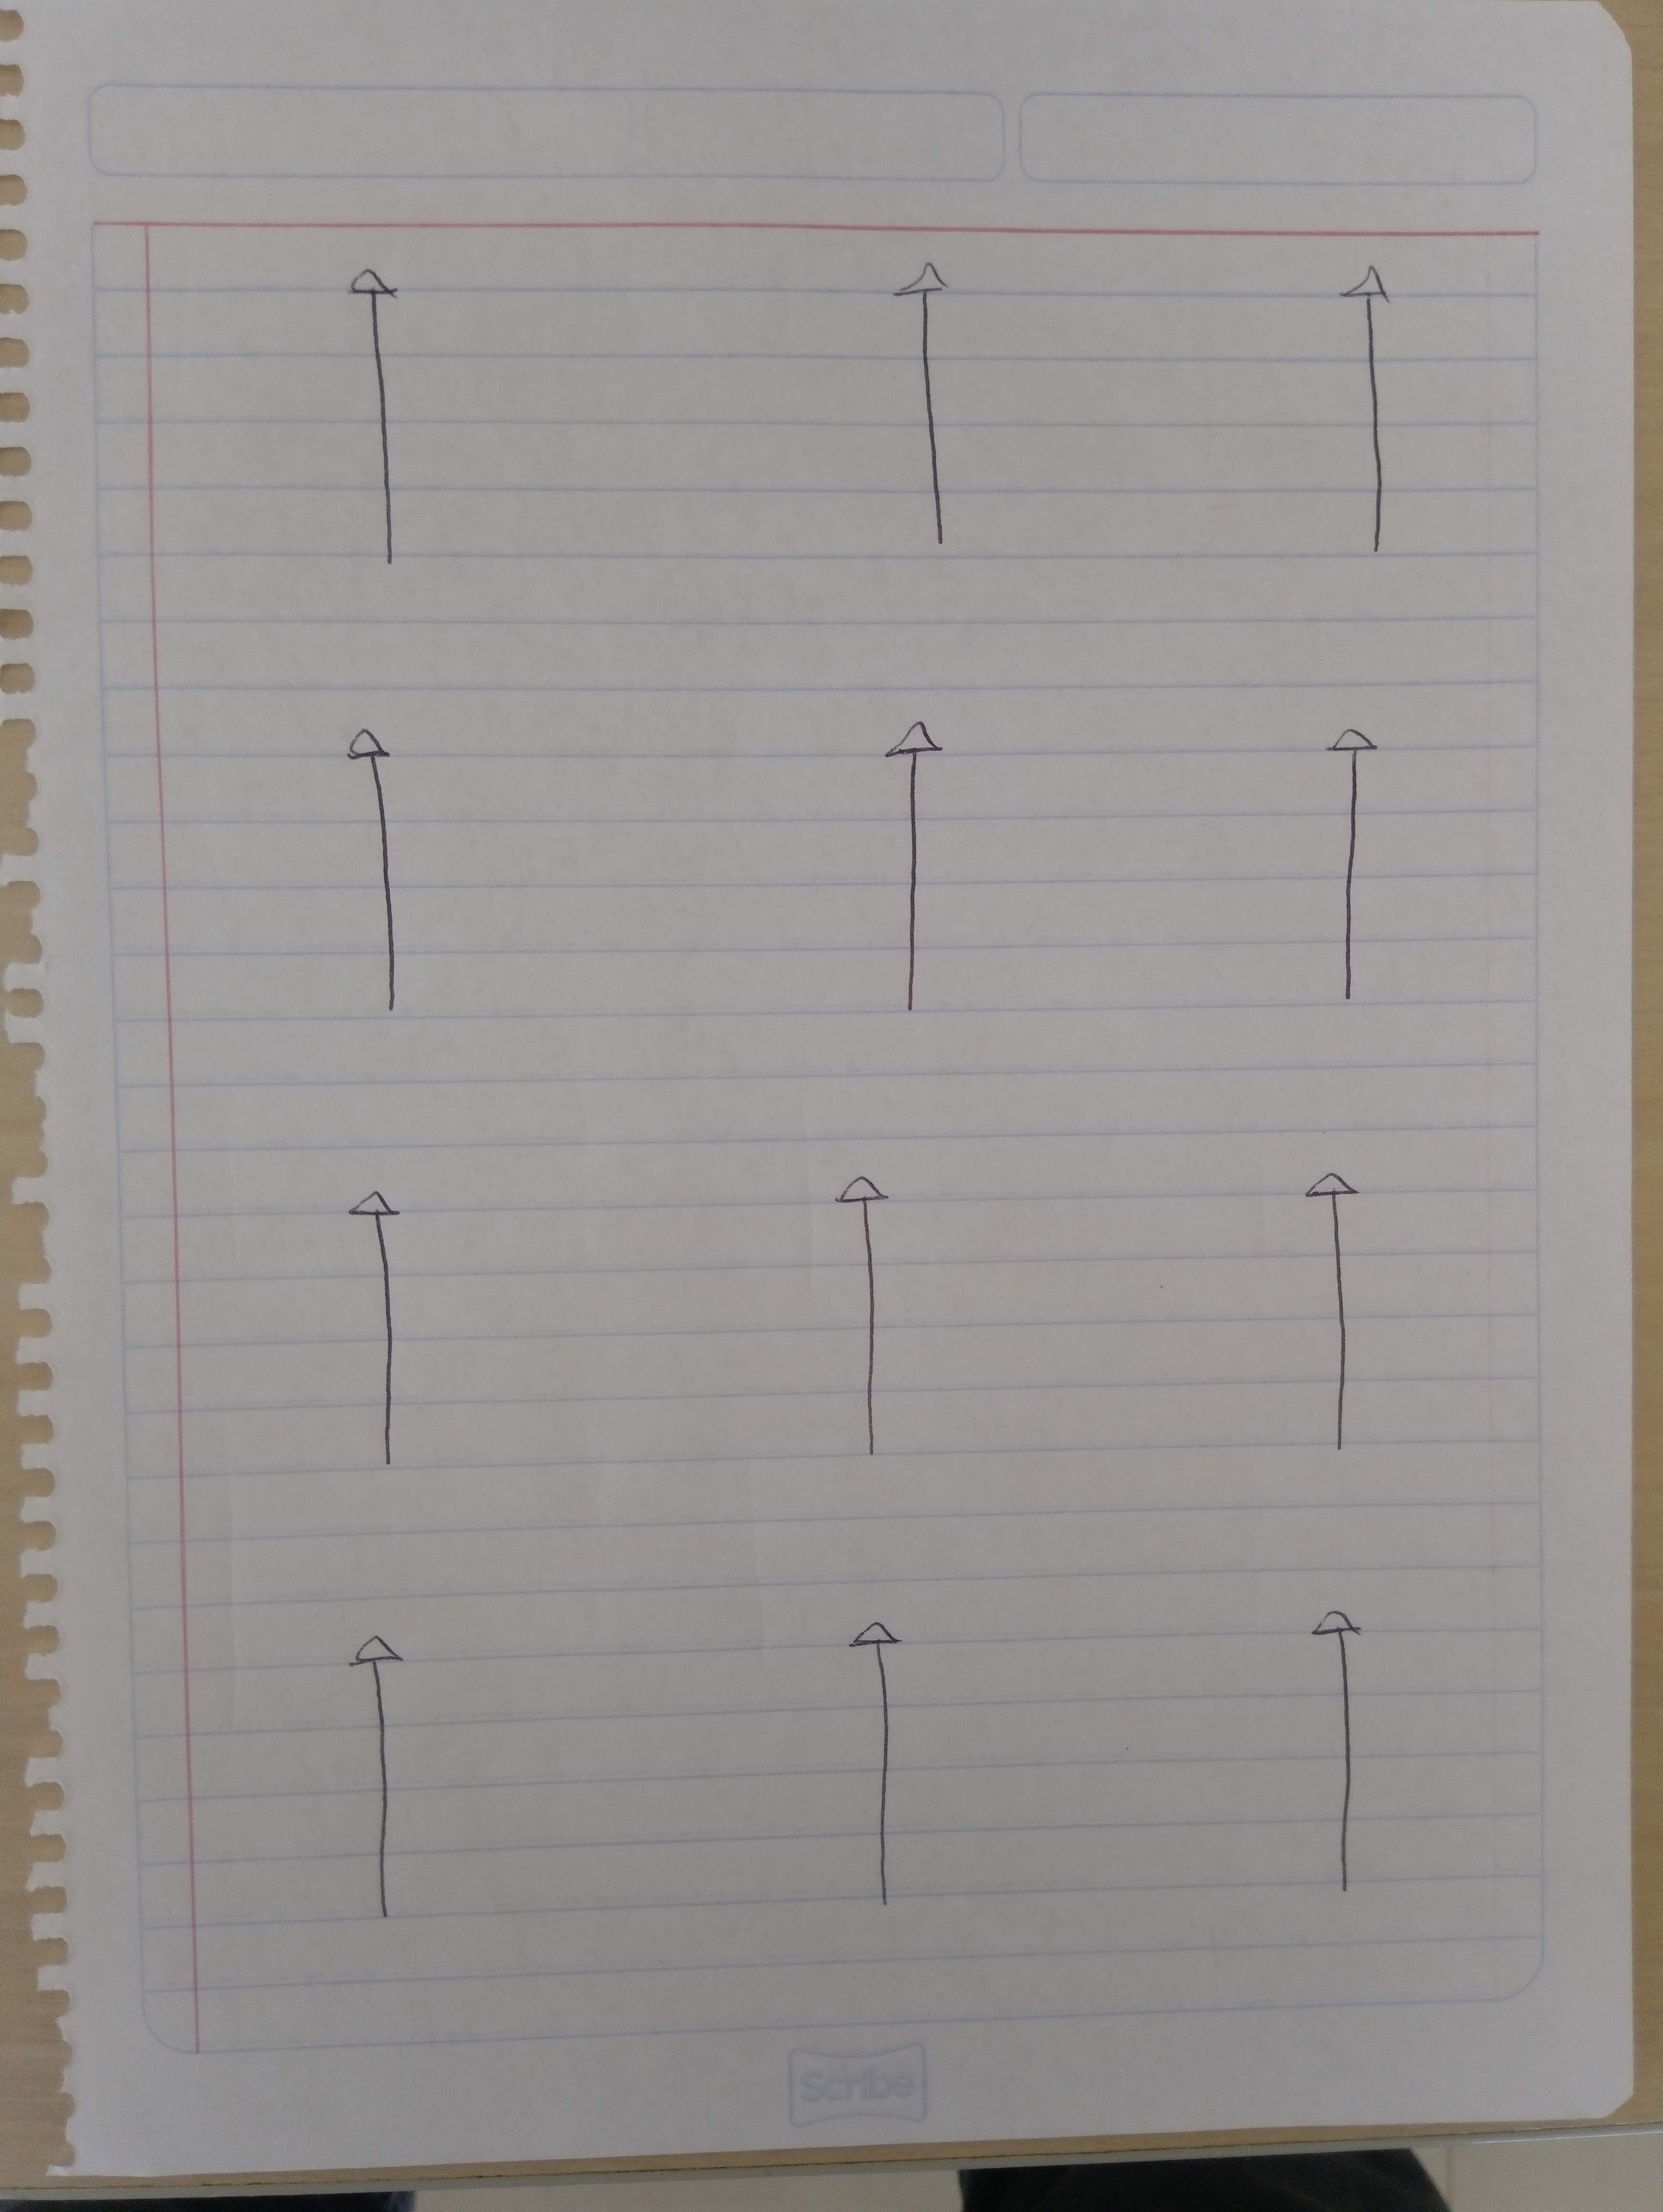arrow_line_up: (1296, 1604, 1408, 1898), (330, 255, 426, 594), (1303, 1156, 1401, 1477), (337, 1620, 435, 1917), (884, 260, 985, 546), (877, 716, 970, 1016), (1335, 271, 1427, 562), (341, 725, 430, 1020), (849, 1611, 928, 1919), (838, 1175, 919, 1461), (349, 1192, 416, 1484), (1322, 721, 1380, 999)
